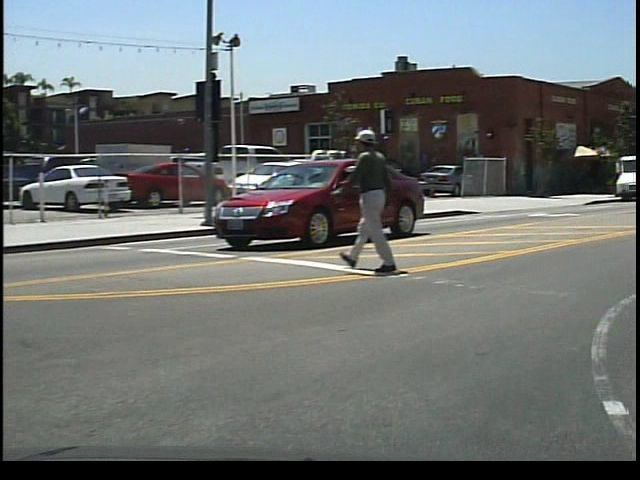person: (347, 124, 419, 284)
